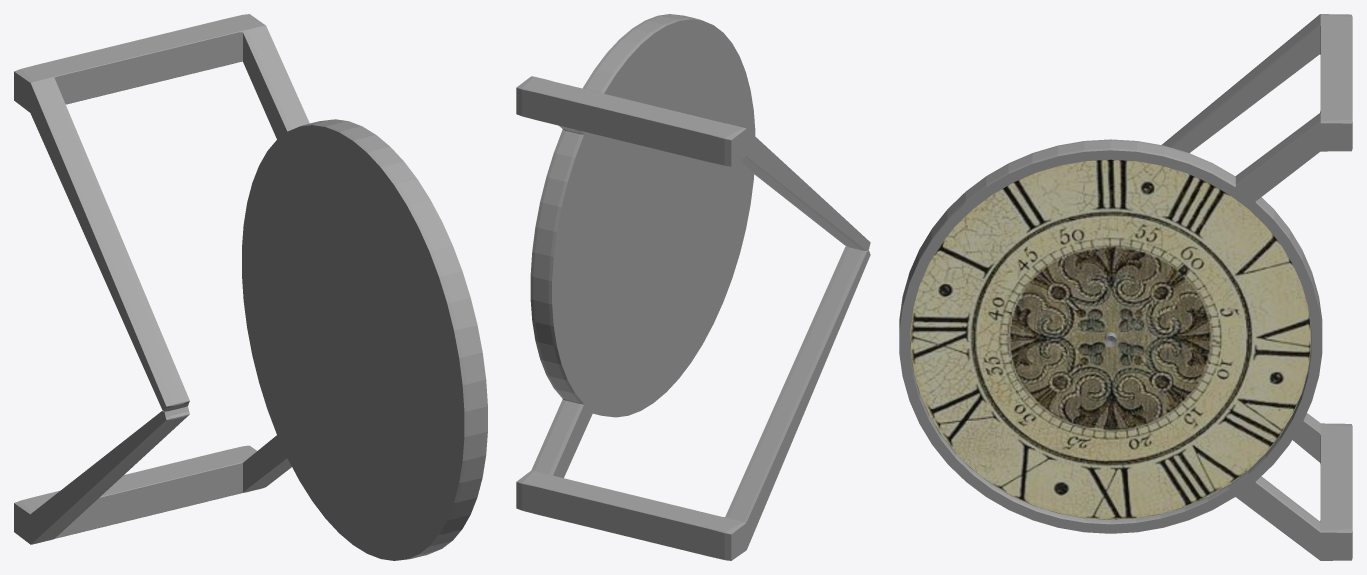
Rendered from stand.obj.
3 renders of one model, left to right at view 1: azimuth 30°, elevation 25°; view 2: azimuth 150°, elevation 25°; view 3: azimuth 270°, elevation 25°, orthographic. The views are drawn at different scales.
Visible parts, largest first — view 1: Stand_Cube.001; view 2: Stand_Cube.001; view 3: Stand_Cube.001.
Boxes of the visible parts, x1,y1,x2,y2 form: Stand_Cube.001: [14, 14, 487, 560]; Stand_Cube.001: [516, 14, 870, 560]; Stand_Cube.001: [899, 14, 1352, 560].
Bounding box in the file's own units: 8 × 15 × 14.06.
